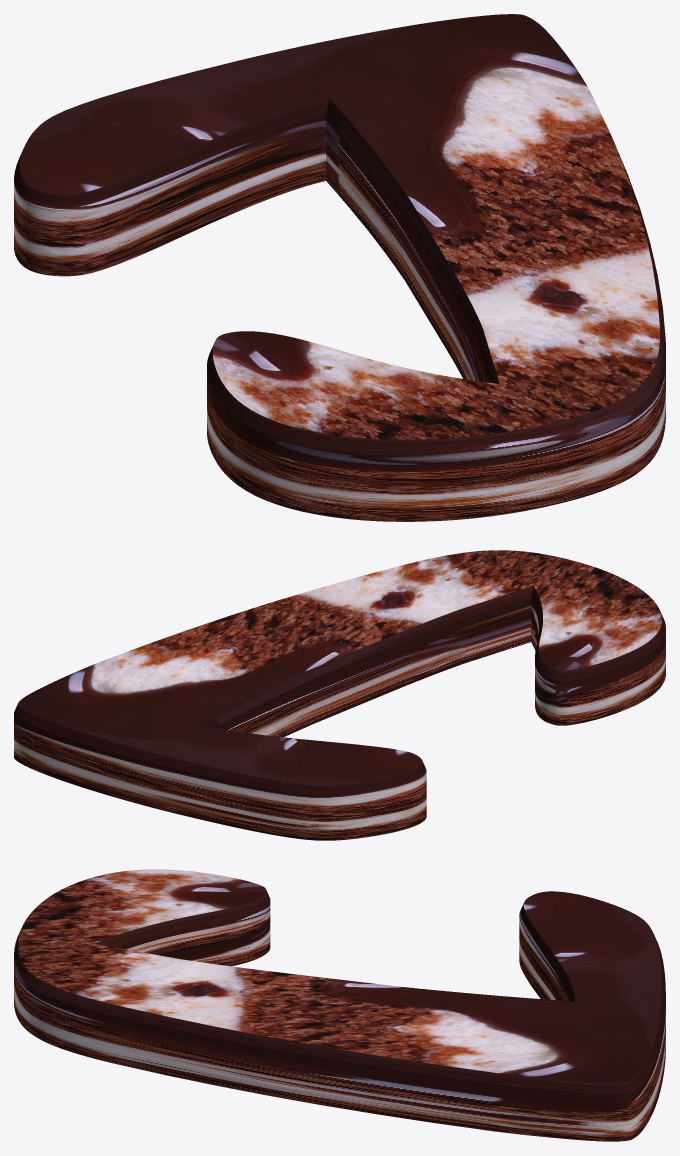
File: myI.FBX
3 renders of one model, top to bottom at view 1: azimuth 30°, elevation 25°; view 2: azimuth 150°, elevation 25°; view 3: azimuth 270°, elevation 25°, orthographic. The views are drawn at different scales.
Parts seen in each view (by area): view 1: myB; view 2: myB; view 3: myB.
Boxes of the visible parts, <box> form: myB: <box>14,14,665,521</box>; myB: <box>14,550,665,840</box>; myB: <box>14,869,665,1141</box>.
Size of the model in its own units: 49.13 by 6 by 62.3.
1 material, 1 textured.
